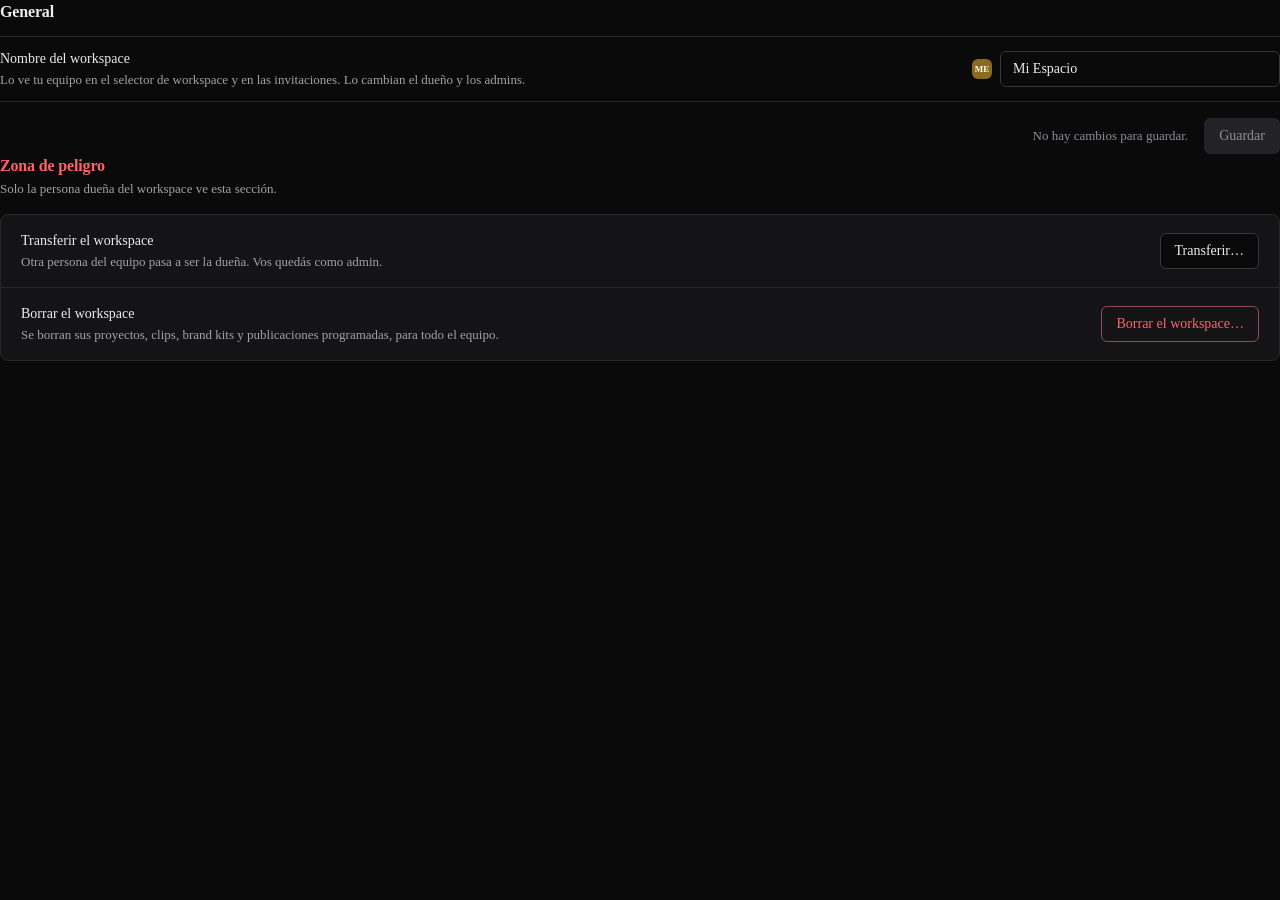
Test: H1 · General › borrar el único workspace lo avisa antes
The width and height of the screenshot is (1280, 900).
Click the button "Borrar el workspace…": x=1180, y=324 [1102, 306, 1259, 342]
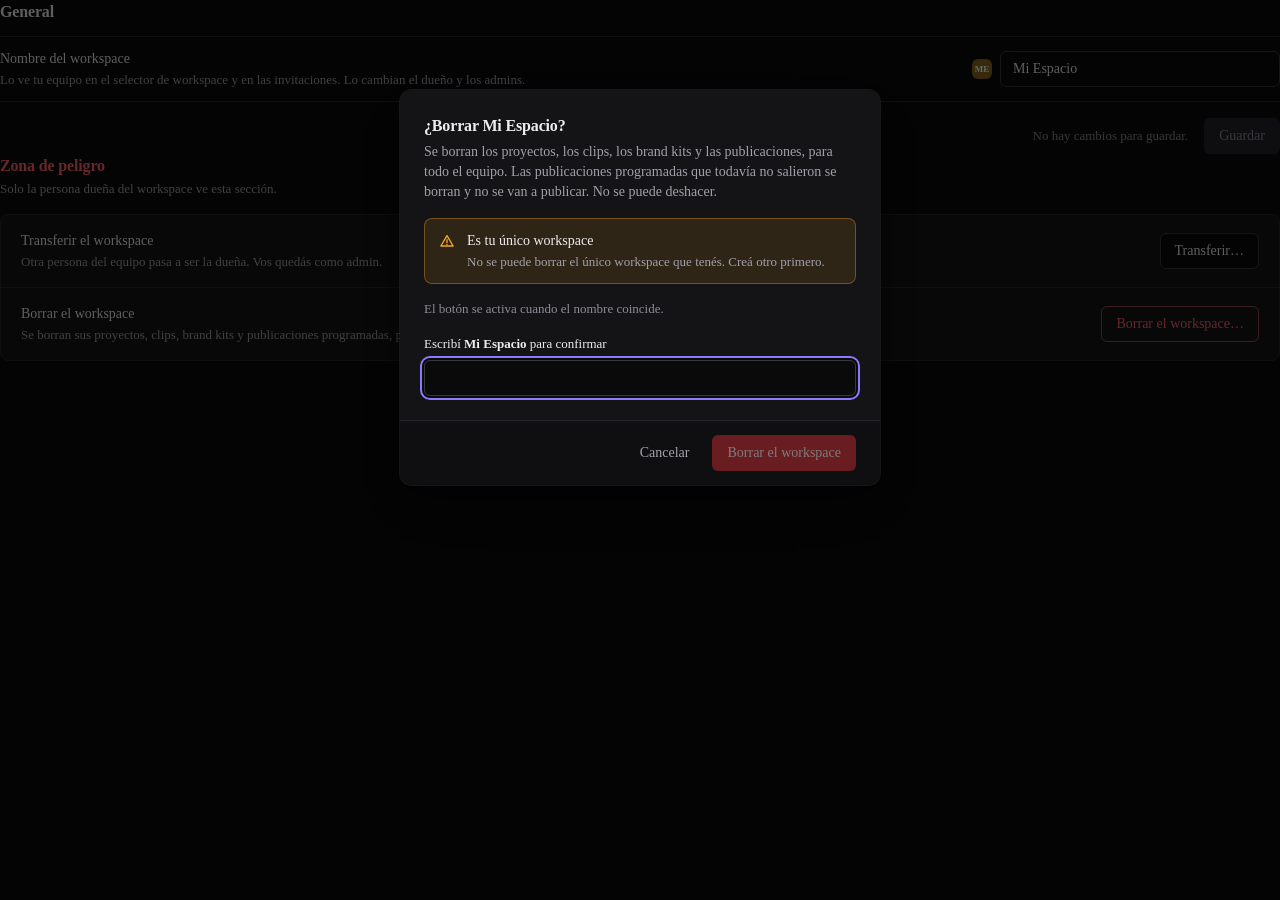
Result: the text "Es tu único workspace" is shown at [467, 233, 593, 248]
Result: the text "No se puede borrar el único workspace que tenés" is shown at [467, 254, 825, 269]
